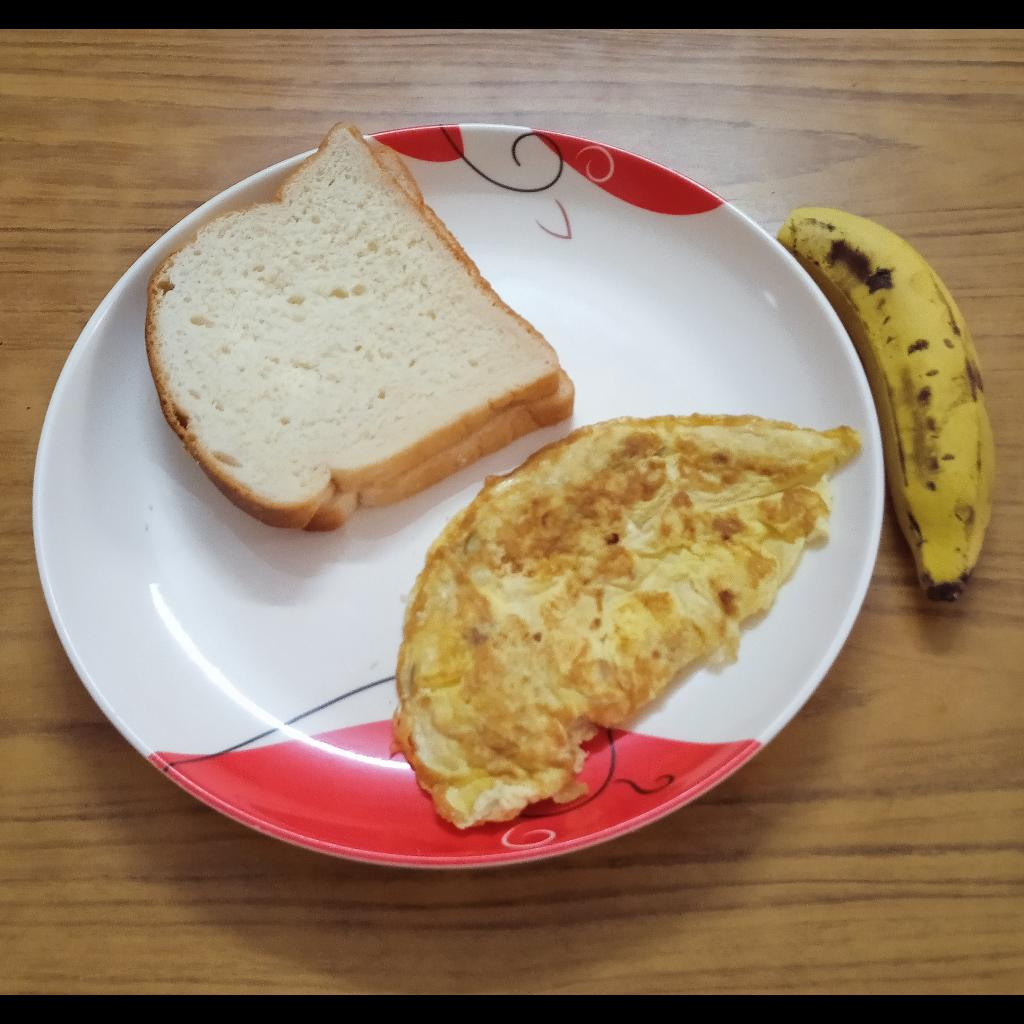banana: (777, 204, 997, 600)
bread: (146, 118, 577, 534)
egg-poached: (390, 412, 866, 832)
